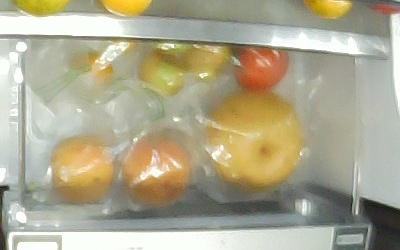peach_vinyl: (122, 133, 191, 202), (48, 133, 114, 204)
pear_vinyl: (202, 88, 303, 189)
tangerine_vinyl: (67, 48, 113, 80)
tomato_vinyl: (228, 48, 290, 89), (136, 48, 185, 96), (180, 43, 232, 79)
